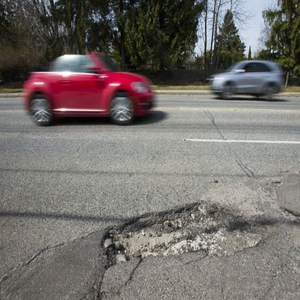pothole: (97, 197, 273, 268)
